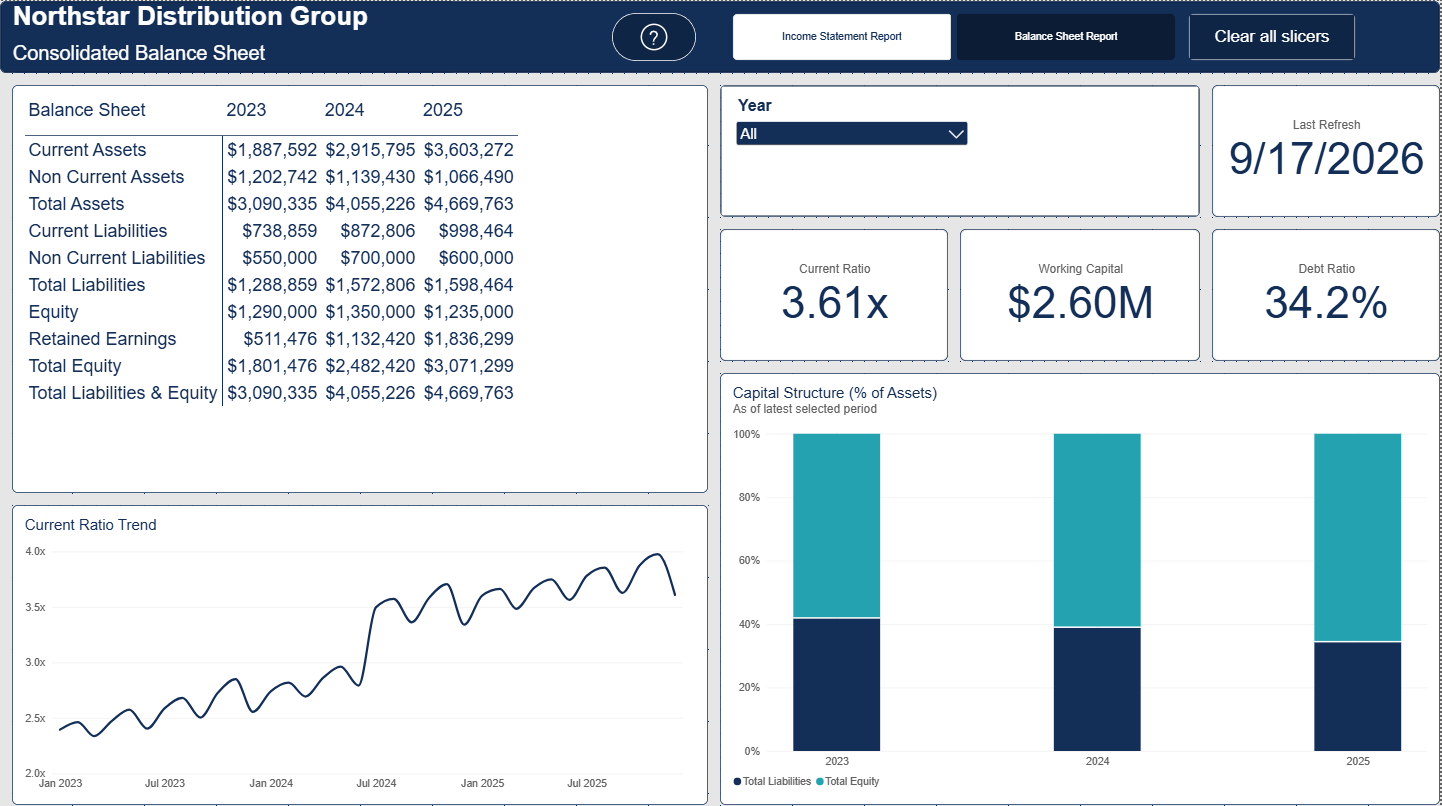

The page's visual inventory and layout, read from the dashboard file:
{"tool":"powerbi","page":{"name":"Balance Sheet  Report","canvas":[1920,1080],"ordinal":1},"visuals":[{"type":"shape","box":[960,112,640,176],"z":0},{"type":"shape","box":[0,0,1920,96],"z":1000},{"type":"textbox","title":"Northstar Distribution Group","box":[16,0,592,96],"z":2000},{"type":"cardVisual","fields":{"Data":["Measures_.Last Refresh"]},"box":[1616,112,304,176],"z":3000},{"type":"actionButton","box":[1584,16,224,64],"z":4000},{"type":"slicer","fields":{"Values":["DimDate.Year"]},"box":[976,128,320,80],"z":5000},{"type":"pivotTable","fields":{"Columns":["DimDate.Year"],"Rows":["StatementHeaders.Category"],"Values":["Measures_.Balance Sheet Value"]},"box":[16,112,928,544],"z":6000},{"type":"cardVisual","fields":{"Data":["Measures_.Current Ratio"]},"box":[960,304,304,176],"z":7000},{"type":"cardVisual","fields":{"Data":["Measures_.Debt Ratio"]},"box":[1616,304,304,176],"z":8000},{"type":"cardVisual","fields":{"Data":["Measures_.Working Capital"]},"box":[1280,304,320,176],"z":9000},{"type":"pageNavigator","box":[976,16,592,64],"z":10000},{"type":"lineChart","title":"Current Ratio Trend","fields":{"Category":["DimDate.MonthStart"],"Y":["Measures_.Current Ratio"]},"box":[16,672,928,400],"z":11000},{"type":"hundredPercentStackedColumnChart","title":"Capital Structure (% of Assets)","fields":{"Category":["DimDate.Year"],"Y":["Measures_.Total Liabilities","Measures_.Total Equity"]},"box":[960,496,960,576],"z":12000},{"type":"actionButton","title":"Button Appear","box":[816,16,112,64],"z":13000}]}

Visuals, with their boxes in screenshot pixels (x1, y1, x2, y2), scaled from the page's 1920x1080 canvas onto the 1442x806 screenshot:
shape: x1=721 y1=84 x2=1202 y2=215
shape: x1=0 y1=0 x2=1441 y2=72
"Northstar Distribution Group" textbox: x1=12 y1=0 x2=457 y2=72
cardVisual - Measures_.Last Refresh: x1=1214 y1=84 x2=1441 y2=215
actionButton: x1=1190 y1=12 x2=1358 y2=60
slicer - DimDate.Year: x1=733 y1=96 x2=973 y2=155
pivotTable - DimDate.Year x StatementHeaders.Category: x1=12 y1=84 x2=709 y2=490
cardVisual - Measures_.Current Ratio: x1=721 y1=227 x2=949 y2=358
cardVisual - Measures_.Debt Ratio: x1=1214 y1=227 x2=1441 y2=358
cardVisual - Measures_.Working Capital: x1=961 y1=227 x2=1202 y2=358
pageNavigator: x1=733 y1=12 x2=1178 y2=60
"Current Ratio Trend" lineChart: x1=12 y1=502 x2=709 y2=800
"Capital Structure (% of Assets)" hundredPercentStackedColumnChart: x1=721 y1=370 x2=1441 y2=800
"Button Appear" actionButton: x1=613 y1=12 x2=697 y2=60
